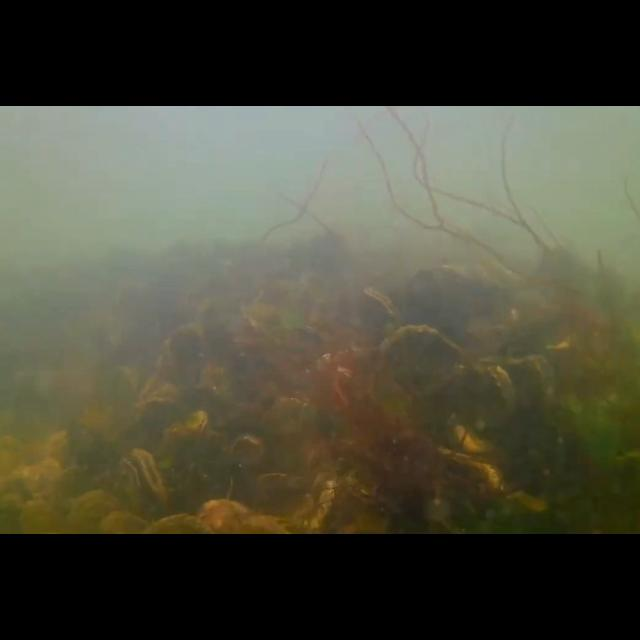Oyster-Closed: (360, 286, 402, 354), (163, 412, 210, 444)
Oyster-Indeterminate: (376, 324, 464, 390), (432, 361, 518, 427), (476, 354, 556, 411), (440, 446, 506, 492), (225, 435, 268, 501), (70, 491, 116, 535), (147, 339, 177, 406), (453, 423, 502, 453), (141, 384, 185, 412)
Oyster-Open: (113, 450, 171, 532), (300, 472, 340, 534)
